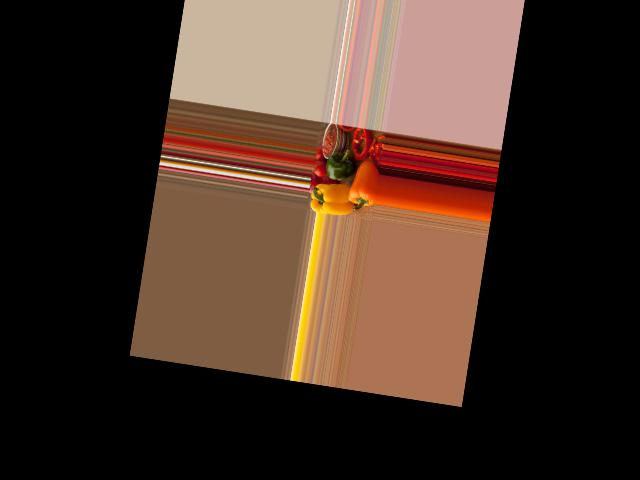bell_pepper: (309, 179, 349, 216)
